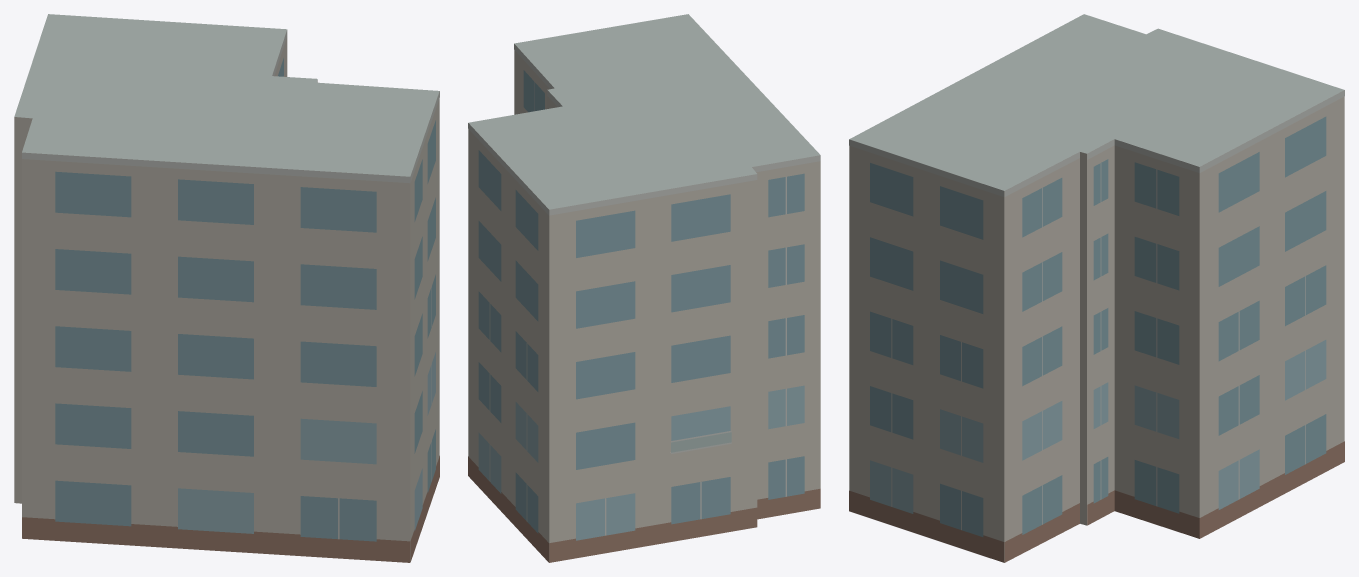
The model's file is survey-upis-32649161.glb.
3 views of the same model, side by side, from view 1: azimuth 30°, elevation 25°; view 2: azimuth 150°, elevation 25°; view 3: azimuth 270°, elevation 25° (orthographic). The views are drawn at different scales.
Visible parts, largest first — view 1: survey-upis-32649161.tmp; view 2: survey-upis-32649161.tmp; view 3: survey-upis-32649161.tmp.
Part boxes in pixels (box(x1,y1,x2,y2)): survey-upis-32649161.tmp: box(14, 14, 439, 562); survey-upis-32649161.tmp: box(468, 14, 820, 562); survey-upis-32649161.tmp: box(849, 14, 1344, 562).
Size of the model in its own units: 14.81 by 14.5 by 17.52.
